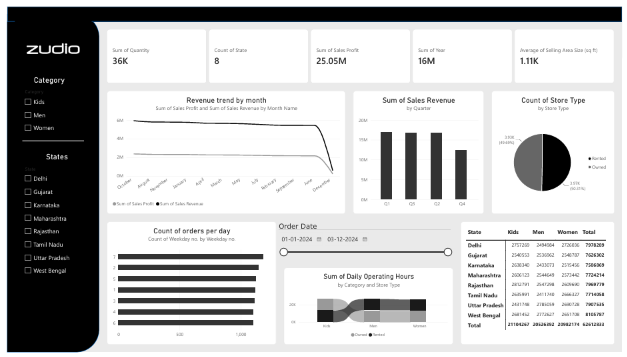

The page's visual inventory and layout, read from the dashboard file:
{"tool":"powerbi","page":{"name":"Sales Dashboard","canvas":[1920,1080],"ordinal":0},"visuals":[{"type":"shape","box":[0,24,288,1056],"z":0},{"type":"shape","box":[0,0,1920,48],"z":1000},{"type":"image","box":[24,24,240,216],"z":2000},{"type":"cardVisual","fields":{"Data":["Sum(Sales Data.Quantity)","Count(Sales Data.State)","Sum(Sales Data.Sales Profit)","Sum(Sales Data.Year)","Avg(Sales Data.Selling Area Size (sq ft))"]},"box":[312,72,1584,168],"z":3000},{"type":"lineChart","title":"Revenue trend by month","fields":{"Category":["Sales Data.Month Name"],"Y":["Sum(Sales Data.Sales Profit)","Sum(Sales Data.Sales Revenue)"]},"box":[312,264,744,384],"z":4000},{"type":"columnChart","fields":{"Category":["Sales Data.Quarter"],"Y":["Sum(Sales Data.Sales Revenue)"]},"box":[1080,264,408,384],"z":5000},{"type":"clusteredBarChart","title":"Count of orders per day","fields":{"Category":["Sales Data.Weekday no."],"Y":["CountNonNull(Sales Data.Weekday no.)"]},"box":[312,672,528,384],"z":6000},{"type":"slicer","fields":{"Values":["Sales Data.Order Date"]},"box":[840,672,552,144],"z":7000},{"type":"pieChart","fields":{"Category":["Sales Data.Store Type"],"Y":["CountNonNull(Sales Data.Store Type)"]},"box":[1512,264,384,384],"z":8000},{"type":"pivotTable","fields":{"Rows":["Sales Data.State"],"Columns":["Sales Data.Category"],"Values":["Sum(Sales Data.Sales Revenue)"]},"box":[1416,672,480,384],"z":9000},{"type":"slicer","title":"Category","fields":{"Values":["Sales Data.Category"]},"box":[48,216,168,192],"z":10000},{"type":"shape","box":[48,384,192,72],"z":11000},{"type":"slicer","title":"States","fields":{"Values":["Sales Data.State"]},"box":[48,456,216,408],"z":12000},{"type":"ribbonChart","fields":{"Y":["Sum(Sales Data.Daily Operating Hours)"],"Category":["Sales Data.Category"],"Series":["Sales Data.Store Type"]},"box":[864,816,528,240],"z":13000}]}

Visuals, with their boxes in screenshot pixels (x1, y1, x2, y2), scaled from the page's 1920x1080 canvas onto the 627x357 screenshot:
shape: 0, 8, 94, 356
shape: 0, 0, 626, 16
image: 8, 8, 86, 79
cardVisual - Sum(Sales Data.Quantity) x Count(Sales Data.State): 102, 24, 619, 79
"Revenue trend by month" lineChart: 102, 87, 345, 214
columnChart - Sales Data.Quarter x Sum(Sales Data.Sales Revenue): 353, 87, 486, 214
"Count of orders per day" clusteredBarChart: 102, 222, 274, 349
slicer - Sales Data.Order Date: 274, 222, 455, 270
pieChart - Sales Data.Store Type x CountNonNull(Sales Data.Store Type): 494, 87, 619, 214
pivotTable - Sales Data.State x Sales Data.Category: 462, 222, 619, 349
"Category" slicer: 16, 71, 71, 135
shape: 16, 127, 78, 151
"States" slicer: 16, 151, 86, 286
ribbonChart - Sum(Sales Data.Daily Operating Hours) x Sales Data.Category: 282, 270, 455, 349
